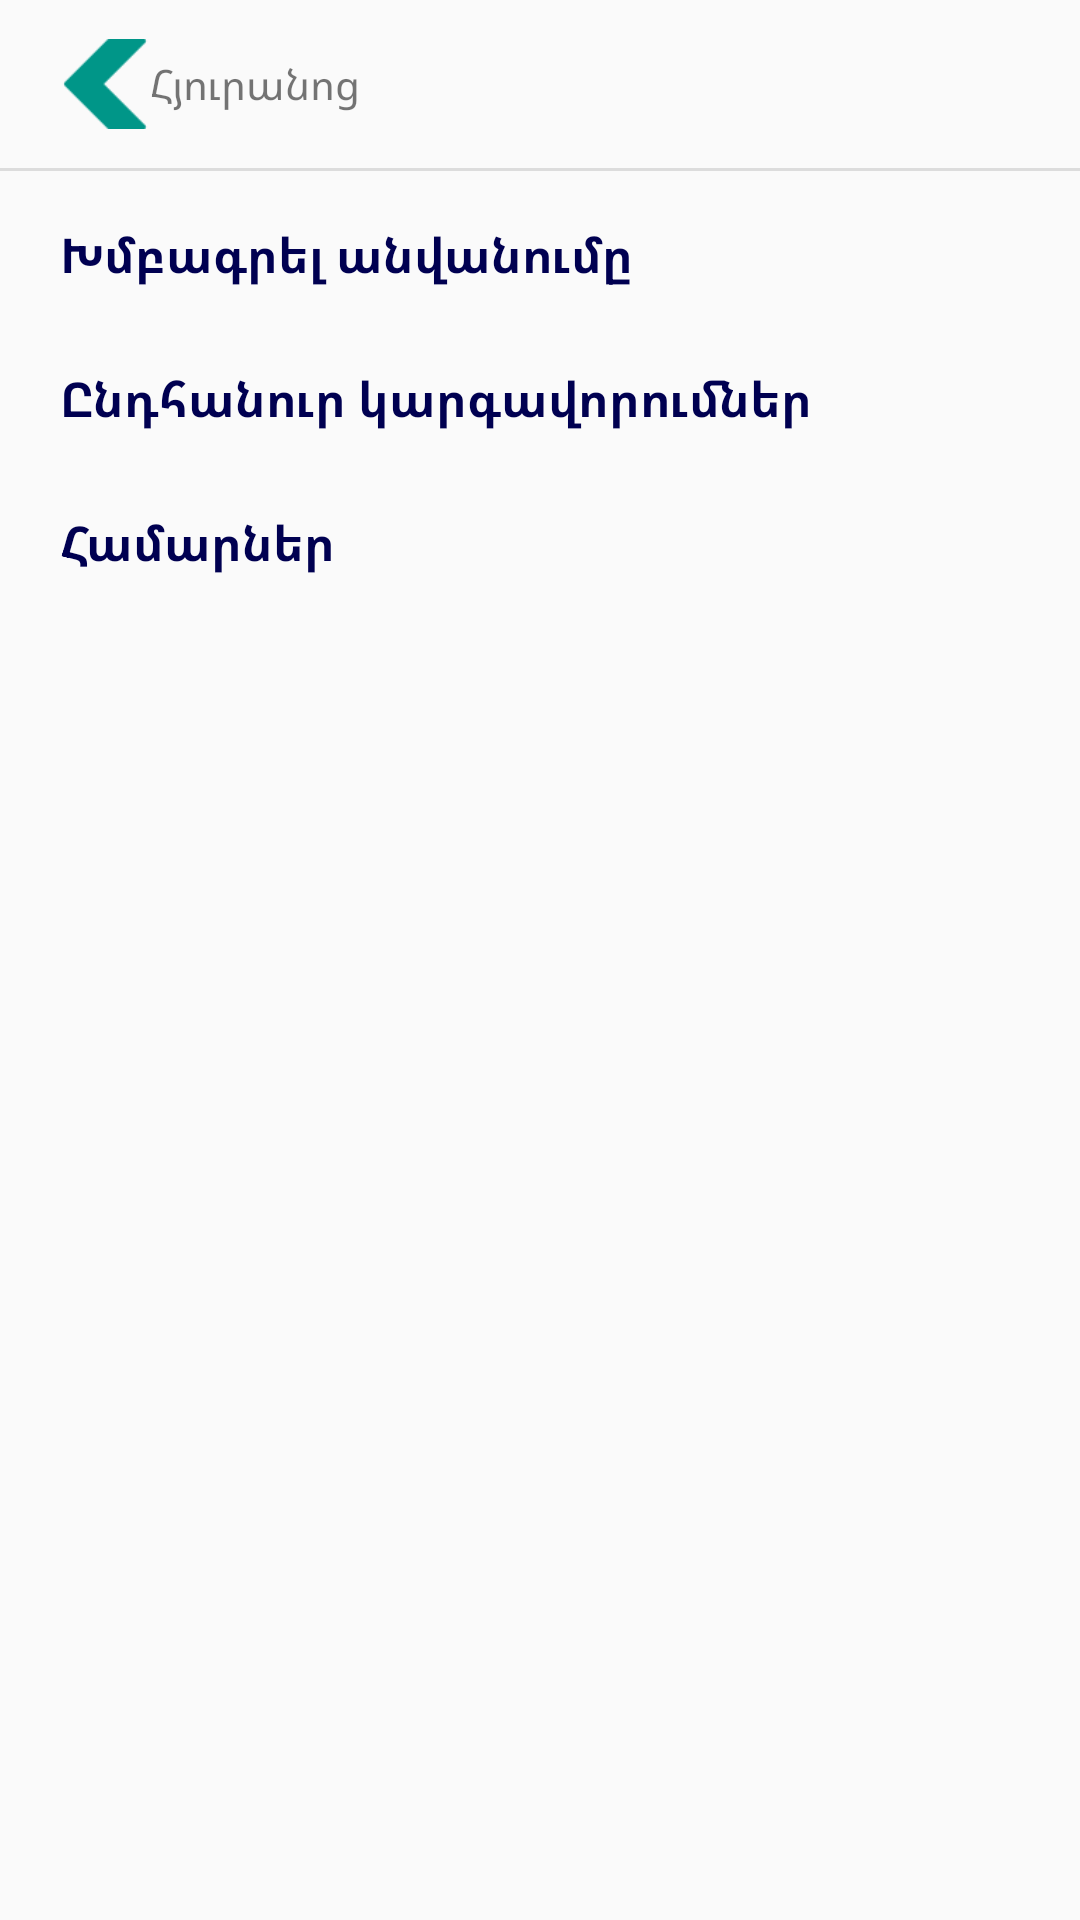

Icon bounding boxes for this 1080 x 1920 phone screenshot, format (x1=x1, y1=y1, x2=x2, y2=y2):
prev: (x1=64, y1=39, x2=146, y2=129)
